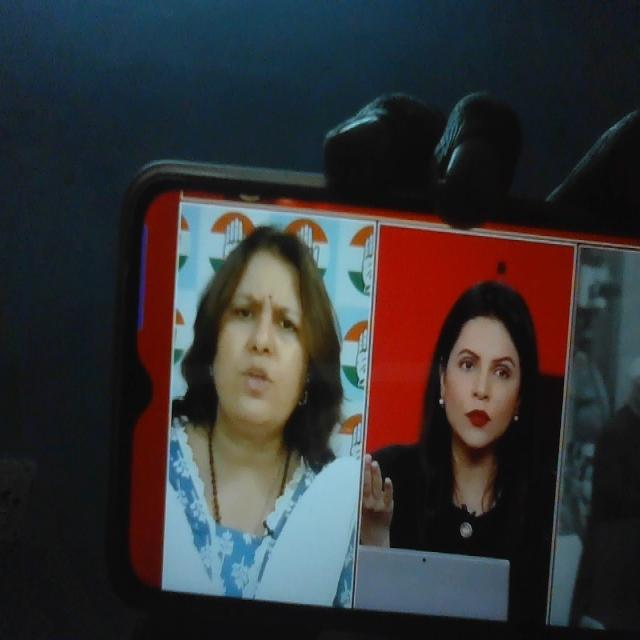fake: (204, 212, 322, 436), (433, 261, 544, 472)
